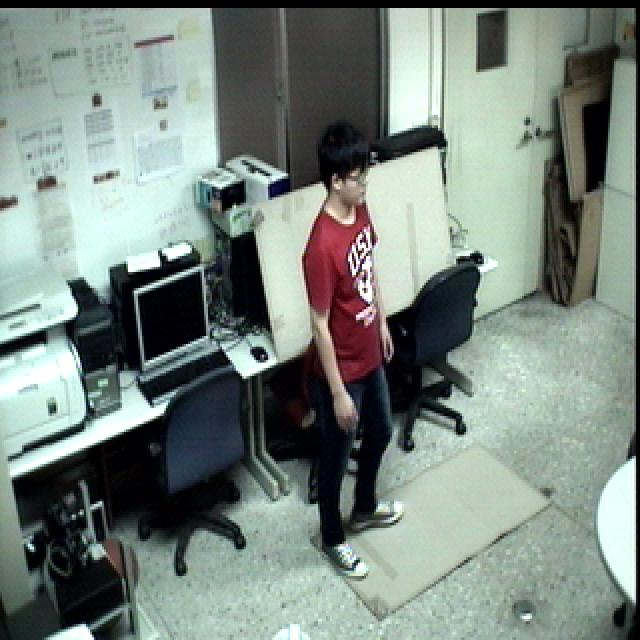stand: (294, 117, 413, 599)
